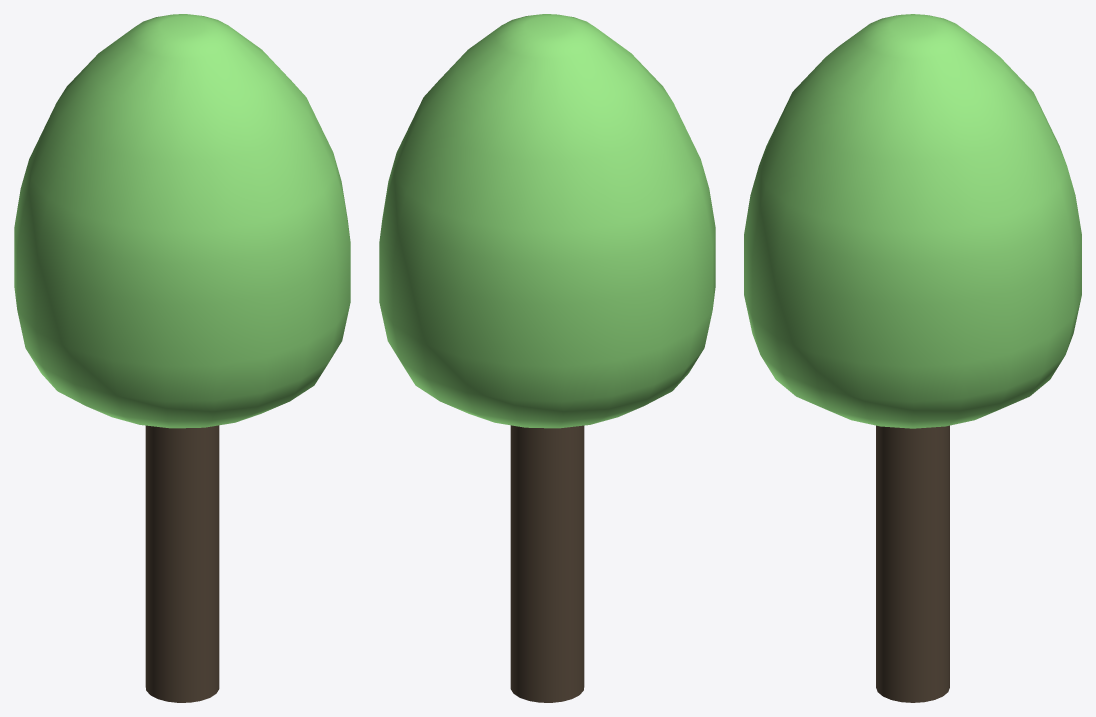
File: shortTree.0006.fbx
3 views of the same model, side by side, from view 1: azimuth 30°, elevation 25°; view 2: azimuth 150°, elevation 25°; view 3: azimuth 270°, elevation 25° (orthographic).
Parts seen in each view (by area): view 1: polySurface16; view 2: polySurface16; view 3: polySurface16.
Boxes of the visible parts, x1,y1,x2,y2 form: polySurface16: (14, 14, 350, 702); polySurface16: (379, 14, 715, 702); polySurface16: (744, 14, 1081, 702).
Bounding box in the file's own units: 1.14 × 2.46 × 1.14.
